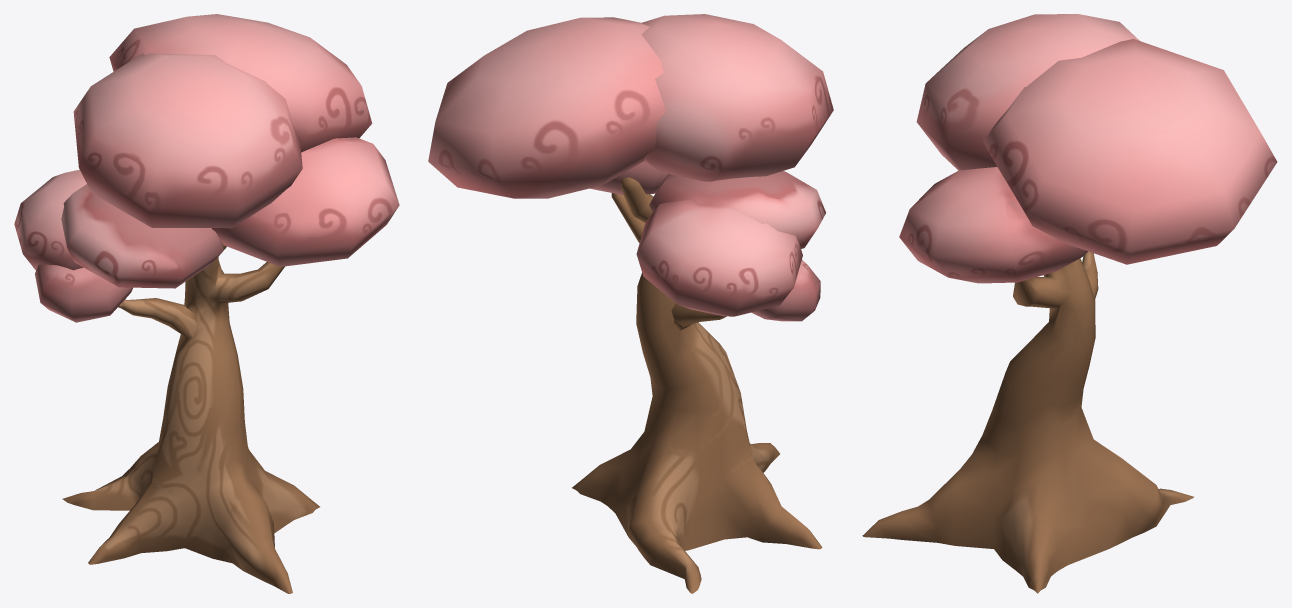
Rendered from Tree_Pink.fbx.
3 renders of one model, left to right at view 1: azimuth 30°, elevation 25°; view 2: azimuth 150°, elevation 25°; view 3: azimuth 270°, elevation 25°, orthographic. The views are drawn at different scales.
Parts seen in each view (by area): view 1: Tree, Leaf6, Leaf2, Leaf5, Leaf4, Leaf1, Leaf3; view 2: Tree, Leaf2, Leaf6, Leaf1, Leaf4, Leaf3, Leaf5; view 3: Leaf2, Tree, Leaf6, Leaf5.
Part boxes in pixels (x1,y1,x2,y2): Tree: (62,243,319,593); Leaf6: (73,53,302,228); Leaf2: (109,14,372,152); Leaf5: (211,137,399,266); Leaf4: (61,184,223,288); Leaf1: (14,169,86,270); Leaf3: (35,264,132,322); Tree: (572,177,822,593); Leaf2: (428,17,666,198); Leaf6: (641,14,833,181); Leaf1: (636,199,802,316); Leaf4: (649,171,825,248); Leaf3: (751,260,820,321); Leaf5: (590,162,667,195); Leaf2: (983,39,1277,264); Tree: (862,251,1193,593); Leaf6: (916,14,1139,170); Leaf5: (899,167,1087,283).
Size of the model in its own units: 50.78 by 68 by 51.37.
2 materials, 2 textured.
